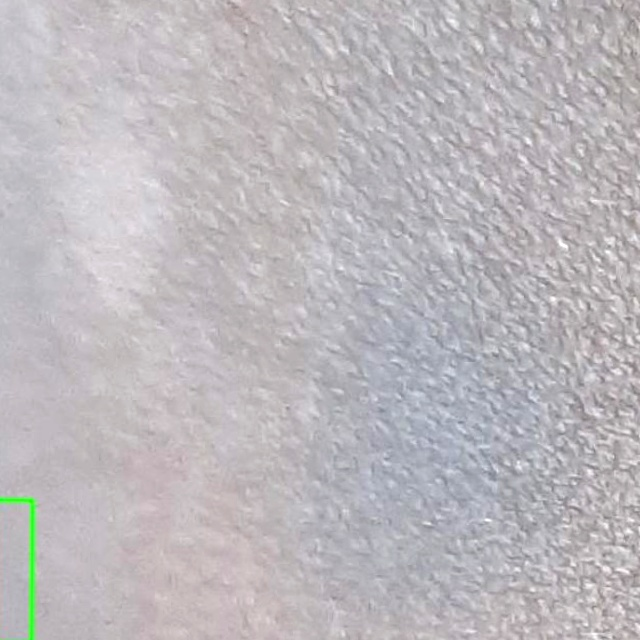Atopic Dermatitis: (0, 499, 32, 639)
